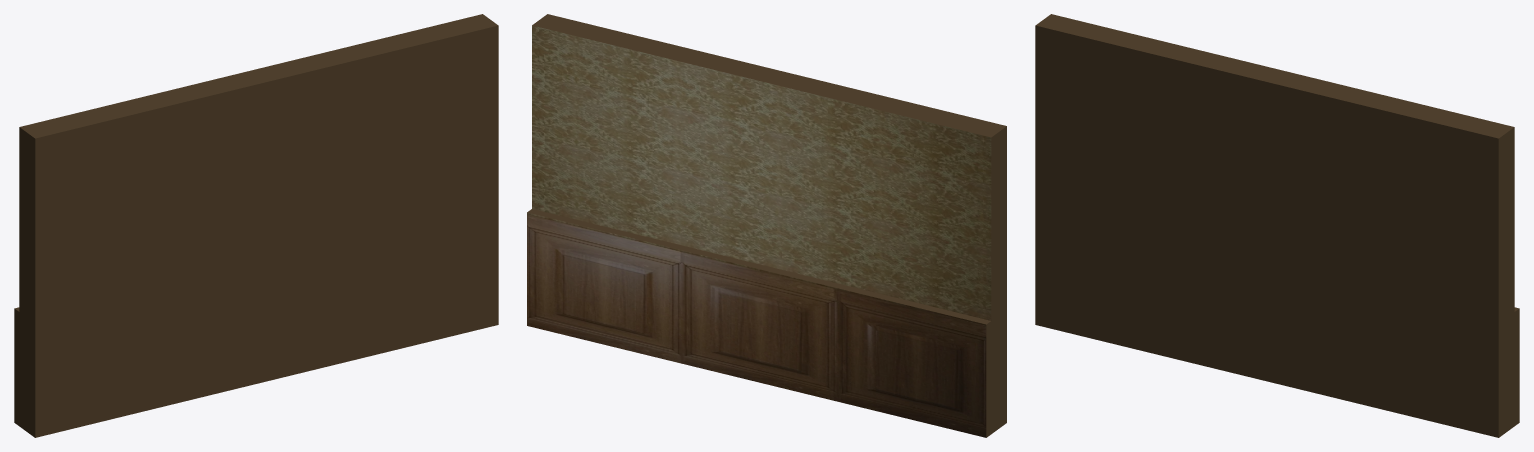
3 renders of one model, left to right at view 1: azimuth 30°, elevation 25°; view 2: azimuth 150°, elevation 25°; view 3: azimuth 330°, elevation 25°, orthographic.
Parts seen in each view (by area): view 1: Cube.007; view 2: Cube.007; view 3: Cube.007.
Part boxes in pixels (x1=…): Cube.007: x1=14, y1=14, x2=498, y2=437; Cube.007: x1=527, y1=14, x2=1006, y2=437; Cube.007: x1=1035, y1=14, x2=1519, y2=437.
Size of the model in its own units: 324 by 200 by 25.09.
Materials: 2 (1 with a texture image).
